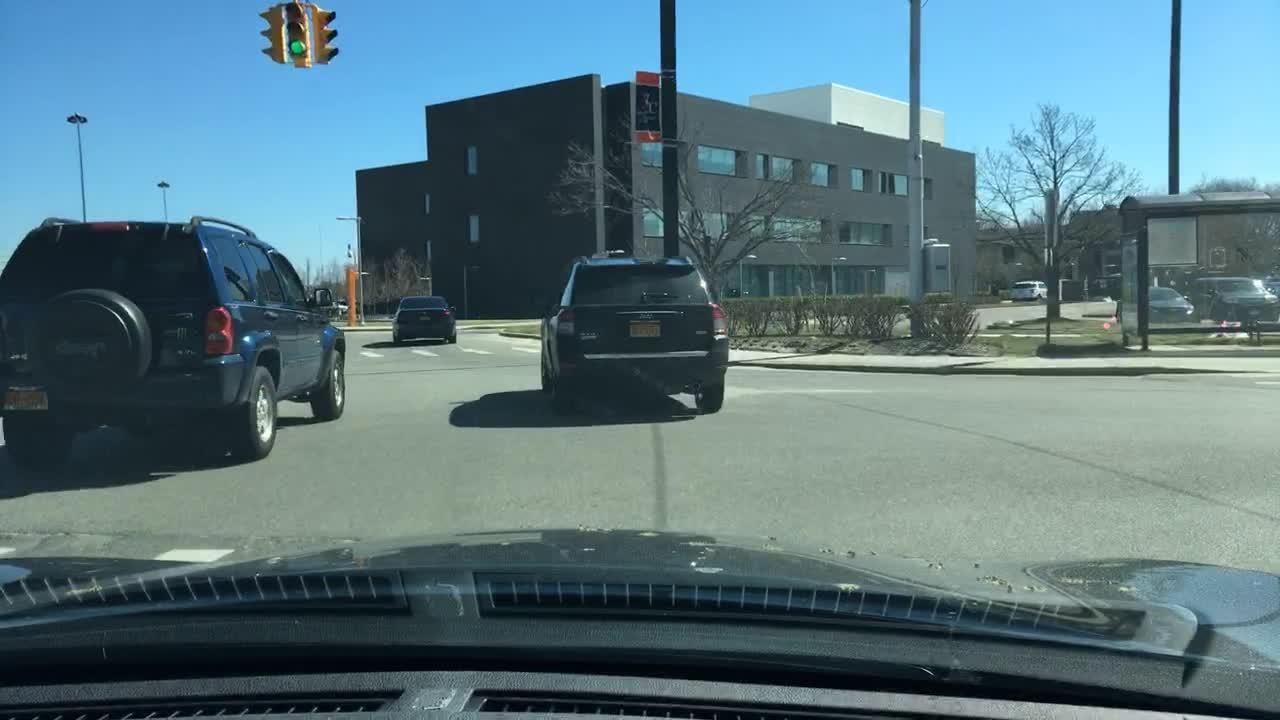jeep: (637, 313, 656, 322)
